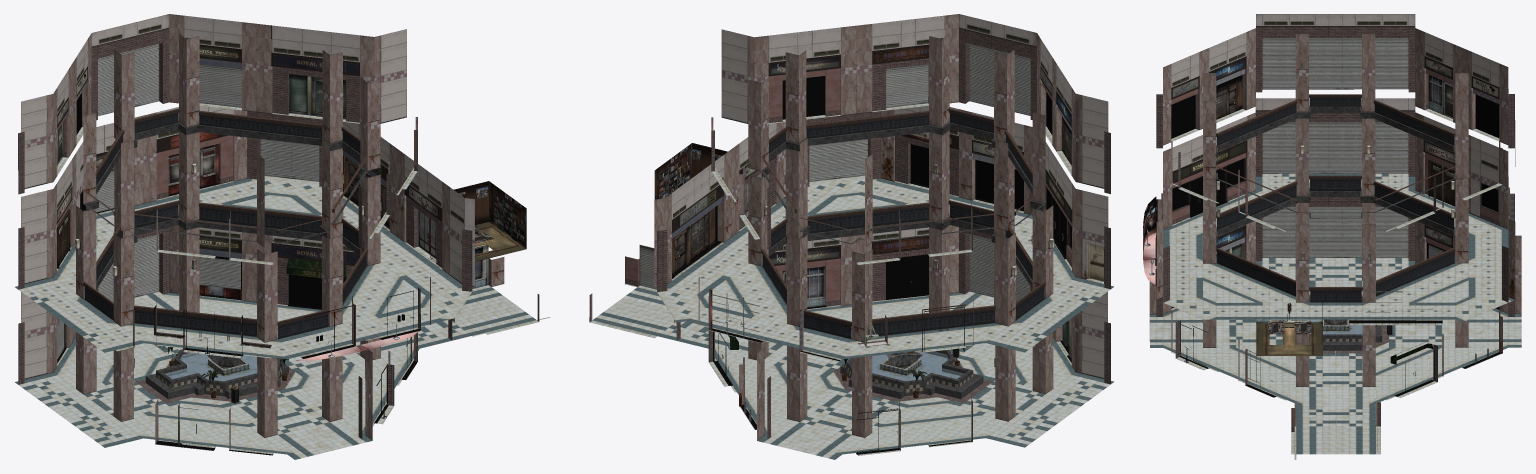
Rendered from abandoned_shopping_mall.glb.
The picture shows the model from 3 angles, left to right: view 1: azimuth 30°, elevation 25°; view 2: azimuth 150°, elevation 25°; view 3: azimuth 270°, elevation 25°; orthographic projection. The views are drawn at different scales.
Parts seen in each view (by area): view 1: FrontSide_6, FrontSide_10, FrontSide_5, FrontSide_4, FrontSide_2, FrontSide_8, FrontSide_3, FrontSide_1, BackSide_0; view 2: FrontSide_6, FrontSide_10, FrontSide_5, FrontSide_4, FrontSide_2, BackSide_0, FrontSide_8, FrontSide_3, FrontSide_1; view 3: FrontSide_10, FrontSide_6, FrontSide_5, FrontSide_4, FrontSide_2, BackSide_0, FrontSide_3, FrontSide_8, FrontSide_1.
Boxes of the visible parts, left/top/right/bottom form: FrontSide_6: left=21, top=14, right=504, bottom=449; FrontSide_10: left=15, top=103, right=550, bottom=459; FrontSide_5: left=18, top=27, right=539, bottom=439; FrontSide_4: left=57, top=44, right=454, bottom=434; FrontSide_2: left=24, top=44, right=526, bottom=403; FrontSide_8: left=57, top=144, right=493, bottom=399; FrontSide_3: left=57, top=46, right=437, bottom=279; FrontSide_1: left=57, top=74, right=488, bottom=448; BackSide_0: left=57, top=93, right=420, bottom=455; FrontSide_6: left=591, top=14, right=1108, bottom=450; FrontSide_10: left=590, top=103, right=1114, bottom=459; FrontSide_5: left=589, top=27, right=1110, bottom=441; FrontSide_4: left=639, top=43, right=1071, bottom=433; FrontSide_2: left=654, top=44, right=1104, bottom=378; BackSide_0: left=675, top=76, right=1071, bottom=454; FrontSide_8: left=672, top=181, right=1103, bottom=421; FrontSide_3: left=680, top=46, right=1071, bottom=349; FrontSide_1: left=672, top=117, right=1071, bottom=357; FrontSide_10: left=1149, top=108, right=1521, bottom=459; FrontSide_6: left=1149, top=14, right=1521, bottom=426; FrontSide_5: left=1156, top=26, right=1514, bottom=431; FrontSide_4: left=1143, top=38, right=1515, bottom=381; FrontSide_2: left=1171, top=56, right=1514, bottom=364; BackSide_0: left=1155, top=94, right=1500, bottom=397; FrontSide_3: left=1172, top=58, right=1498, bottom=364; FrontSide_8: left=1172, top=193, right=1502, bottom=364; FrontSide_1: left=1216, top=75, right=1452, bottom=391.
Size of the model in its own units: 28.82 by 16.42 by 22.82.
12 materials, 12 textured.
